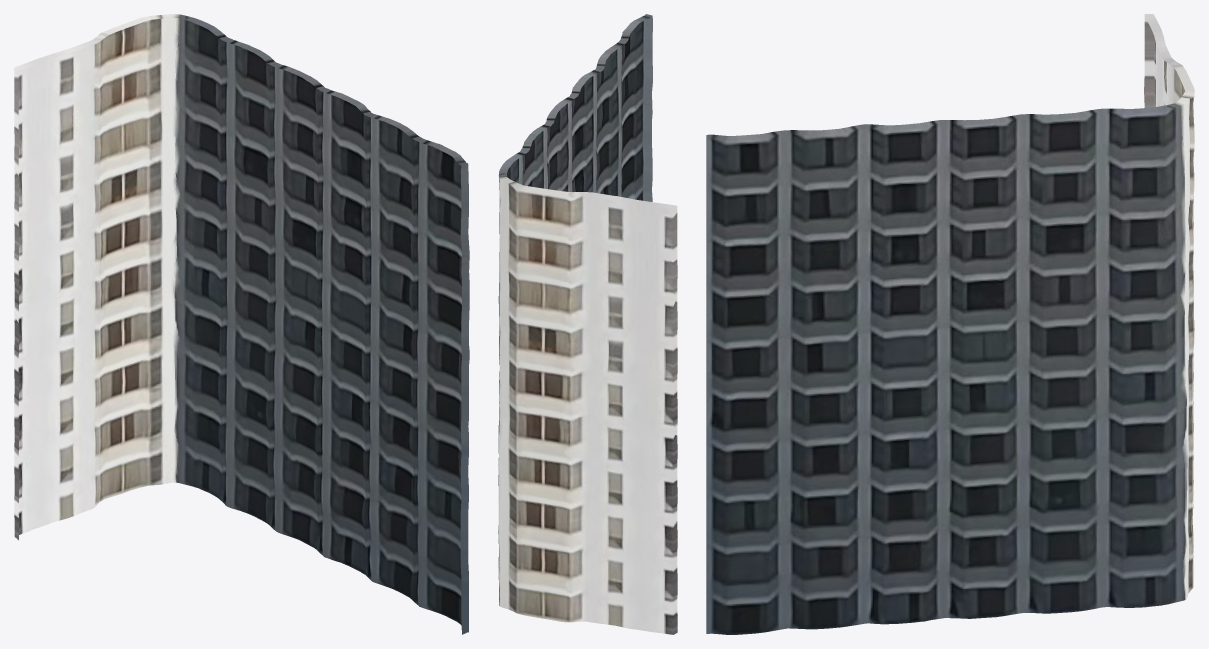
The model's file is z20-167747-405242-h1-yup-uvflip-v3-world.glb.
3 renders of one model, left to right at view 1: azimuth 30°, elevation 25°; view 2: azimuth 150°, elevation 25°; view 3: azimuth 270°, elevation 25°, orthographic. The views are drawn at different scales.
Size of the model in its own units: 15.36 by 28.04 by 25.04.
Materials: 1 (1 with a texture image).
